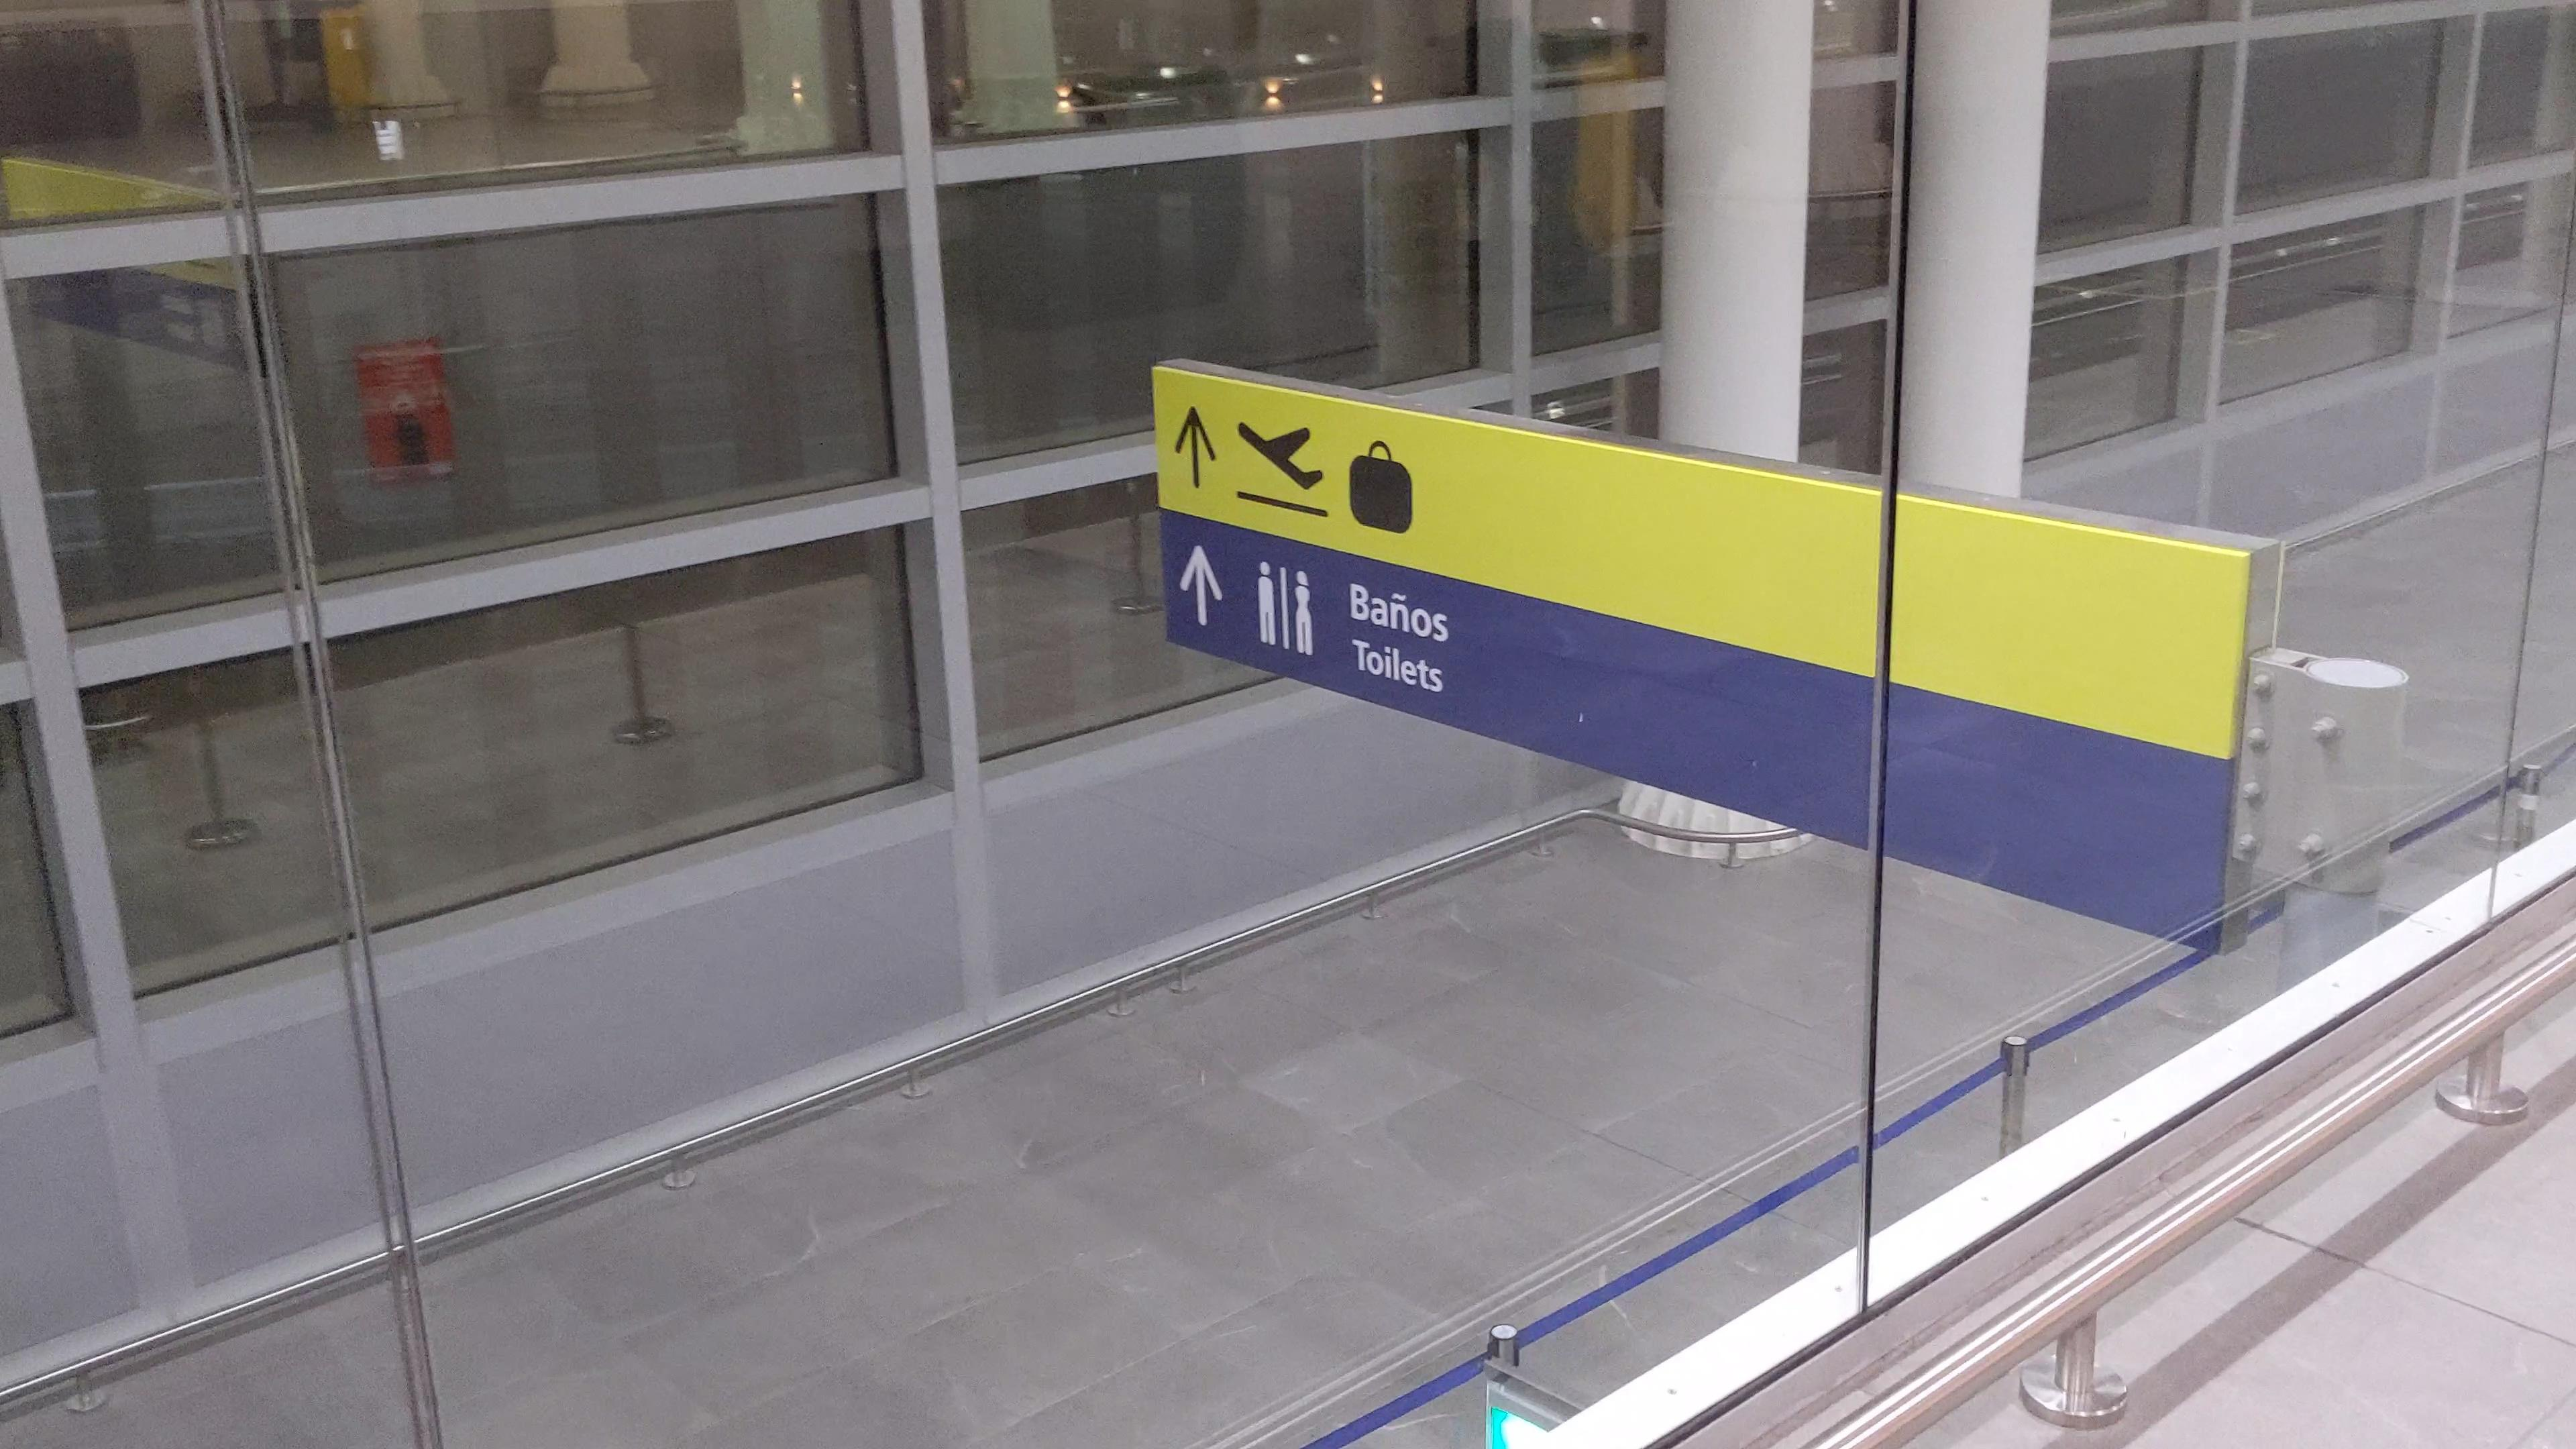airplane symbol: (1235, 421, 1330, 492)
baggage claim: (1348, 439, 1419, 536)
bathrooms: (1253, 559, 1320, 658)
thin up arrow: (1177, 543, 1224, 628), (1175, 402, 1219, 492)
